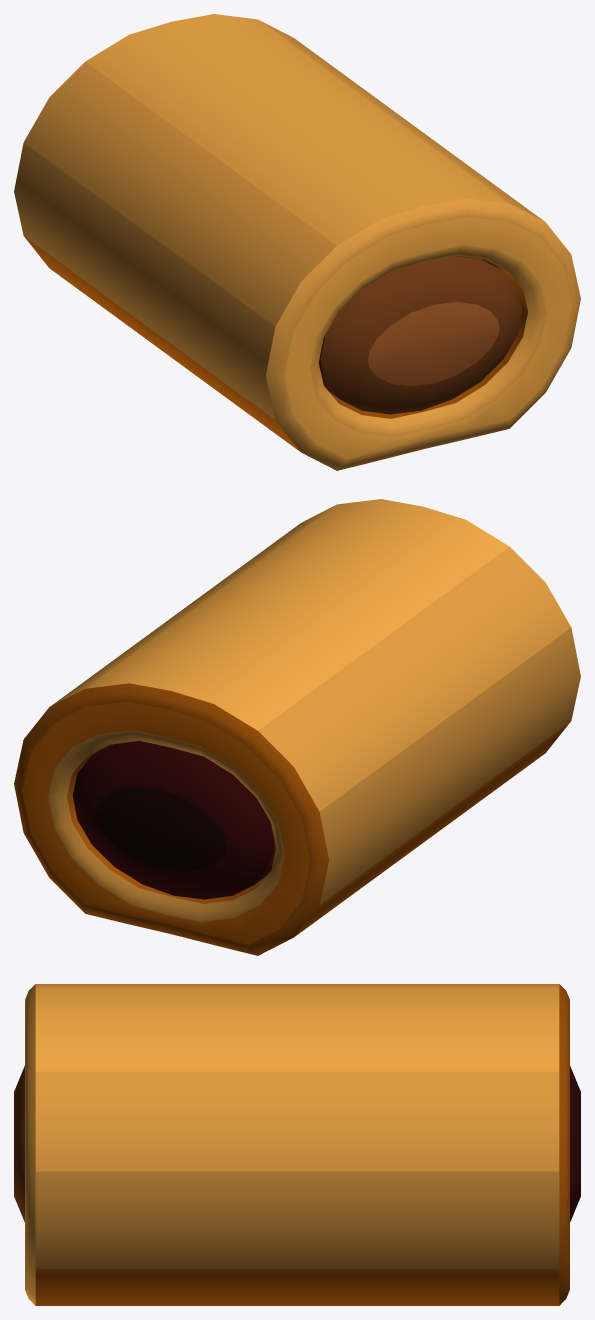
Rendered from sausageroll.fbx.
3 views of the same model, one above another, from view 1: azimuth 30°, elevation 25°; view 2: azimuth 150°, elevation 25°; view 3: azimuth 270°, elevation 25° (orthographic). The views are drawn at different scales.
Visible parts, largest first — view 1: pCylinder1, pCylinder2; view 2: pCylinder1, pCylinder2; view 3: pCylinder1, pCylinder2.
Part boxes in pixels (<box>): pCylinder1: <box>14,14,580,470</box>; pCylinder2: <box>318,255,522,414</box>; pCylinder1: <box>14,499,580,955</box>; pCylinder2: <box>72,740,276,899</box>; pCylinder1: <box>25,984,569,1305</box>; pCylinder2: <box>14,1066,580,1222</box>.
Size of the model in its own units: 1.19 by 0.8805 by 1.78.
2 materials, 2 textured.
